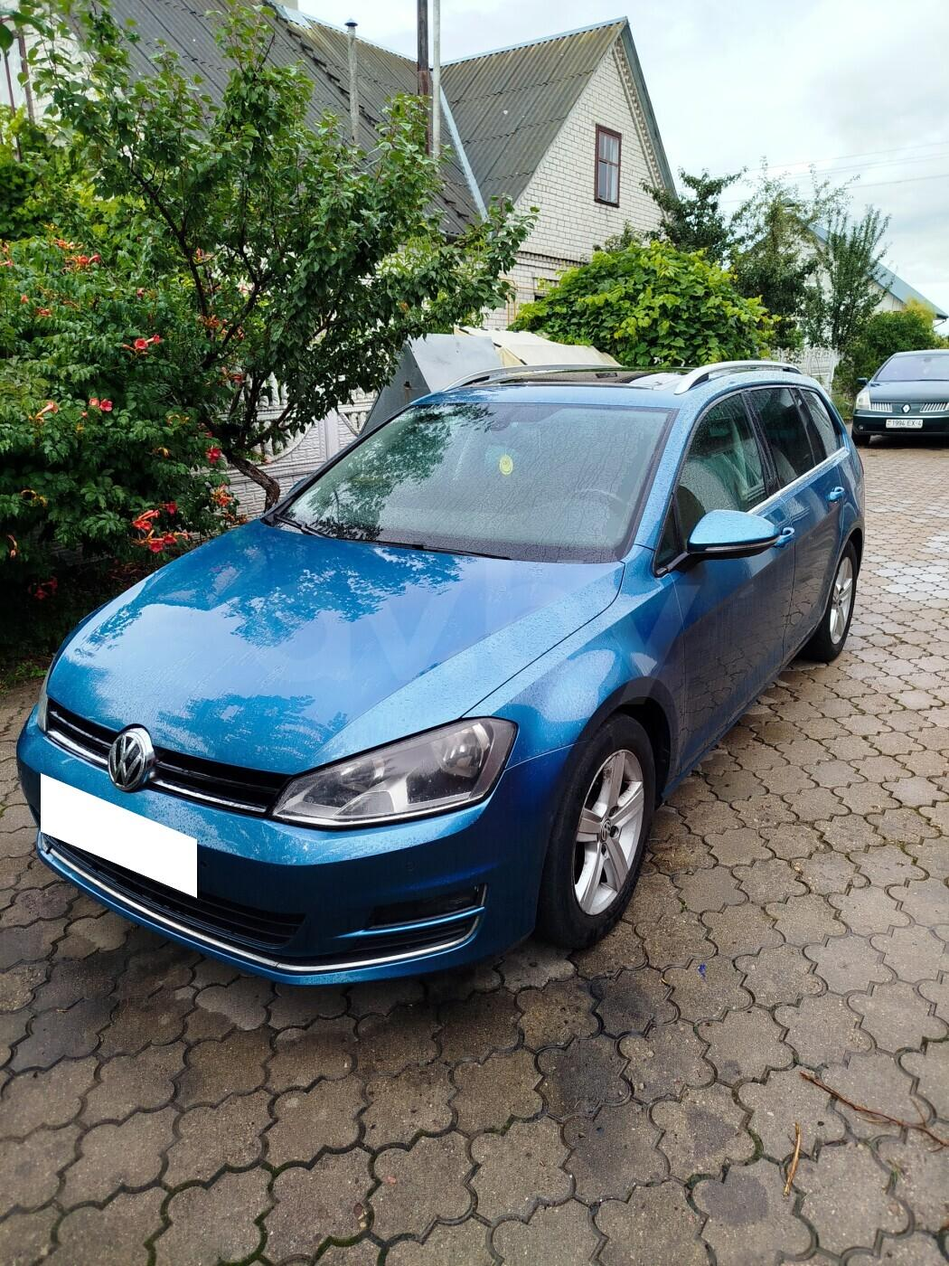Golf_2012-2017: (7, 362, 867, 996)
